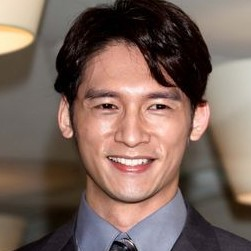unmask: (78, 61, 192, 204)
